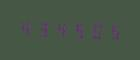five: (69, 19, 85, 40), (103, 21, 119, 41)
four: (17, 18, 33, 38), (52, 19, 68, 39)
three: (34, 18, 50, 39)
zero: (86, 20, 102, 41)
